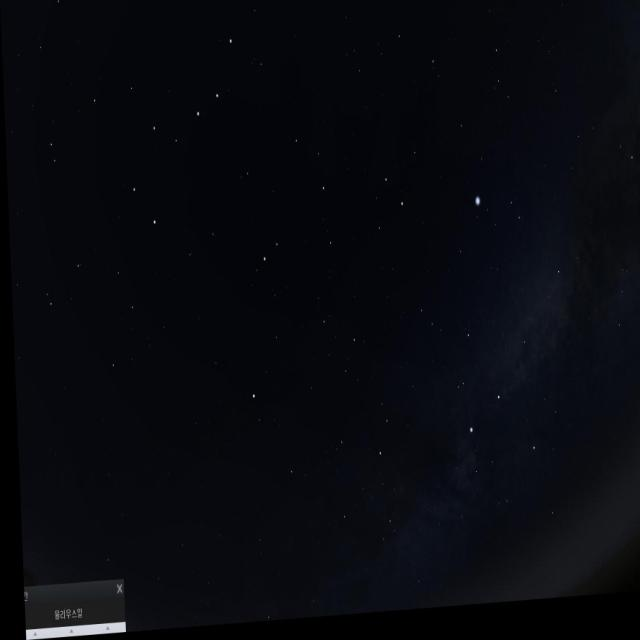cygnus: (443, 253, 575, 489)
lyra: (469, 186, 524, 246)
ursa_major: (126, 18, 244, 228)
